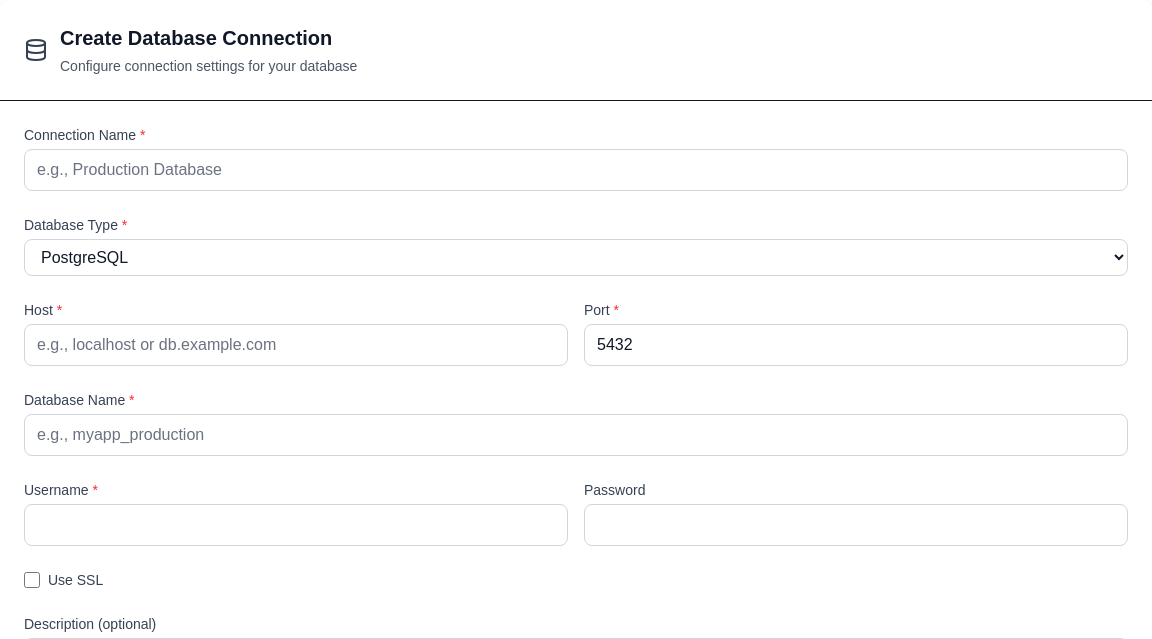
DatabaseConnectionForm › Database Type Selection › should update port when database type changes
This screenshot has width=1152, height=639.
Check: the number field labelled "Port *" holds "5432", box [584,324,1128,366]
Note: Change to MySQL
Select "MySQL" in the dropdown labelled "Database Type *". click: (576, 258)
box: [24,239,1128,276]
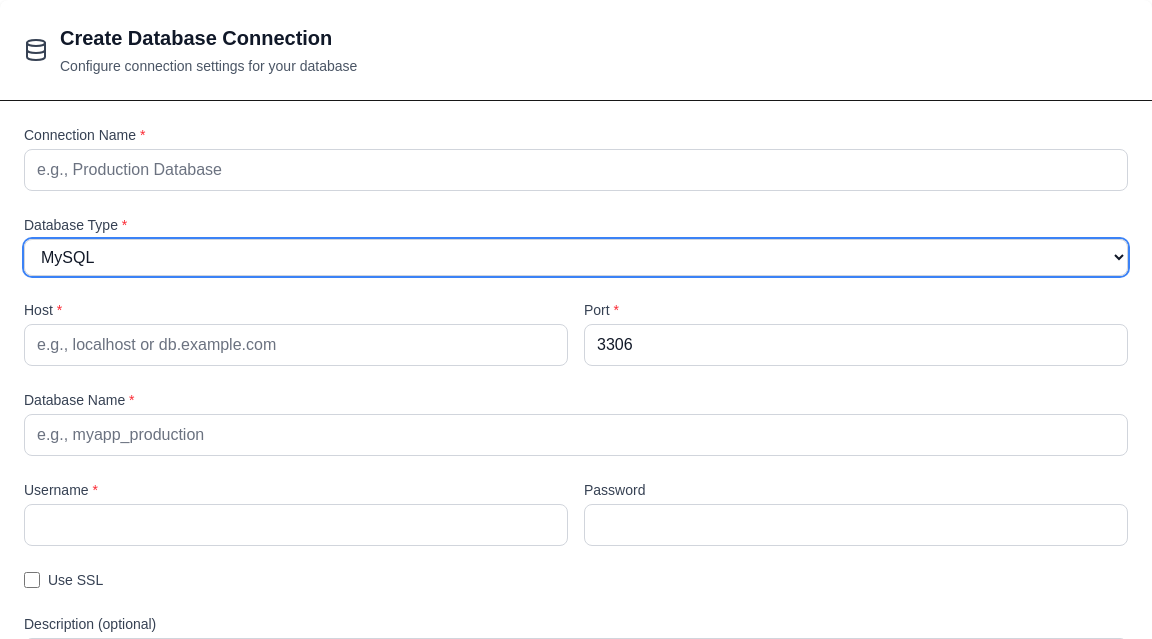
Check: the number field labelled "Port *" holds "3306", box [584,324,1128,366]
Note: Change back to PostgreSQL
Select "PostgreSQL" in the dropdown labelled "Database Type *". click: (576, 258)
box: [24,239,1128,276]
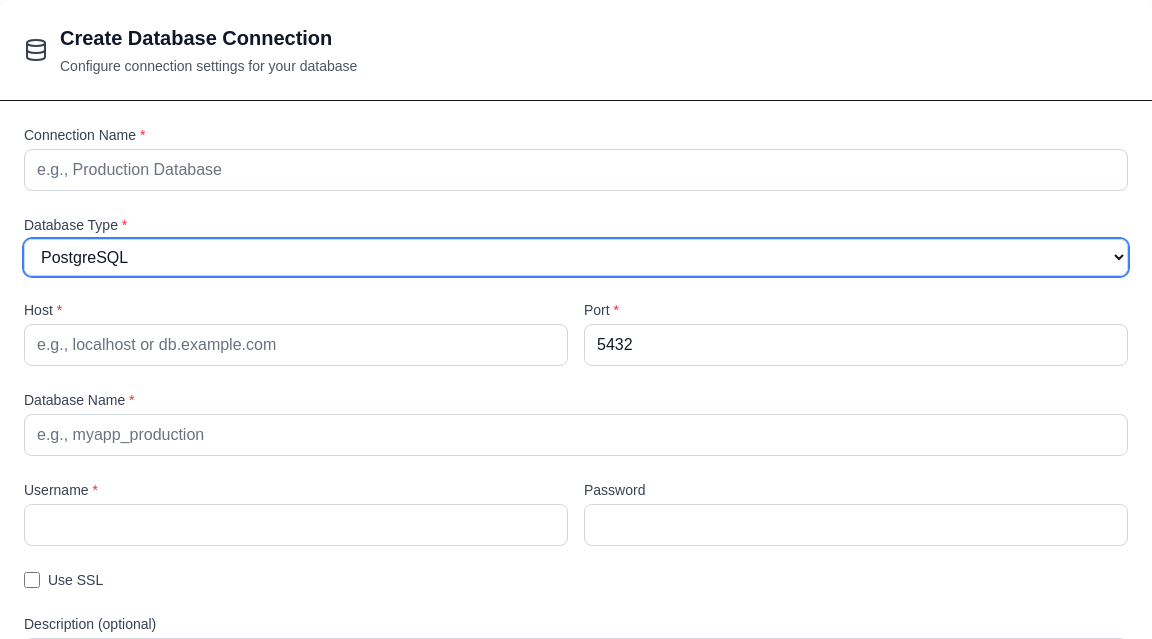
Check: the number field labelled "Port *" holds "5432", box [584,324,1128,366]
